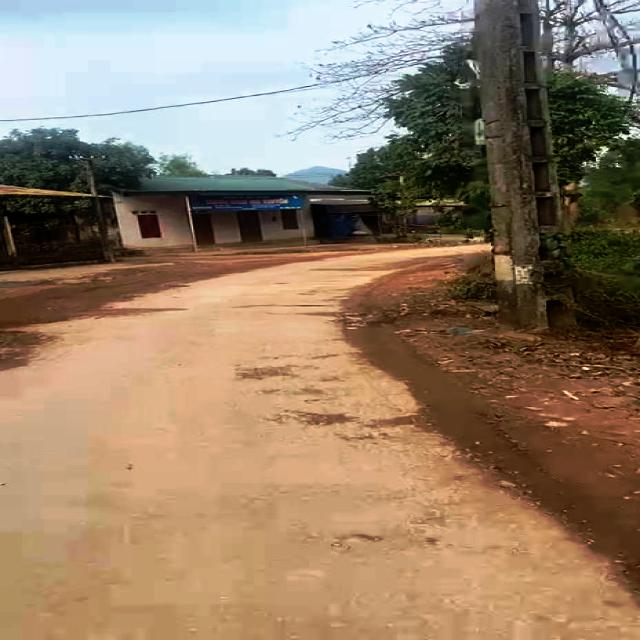pothole: (279, 409, 357, 429), (234, 364, 300, 380)
